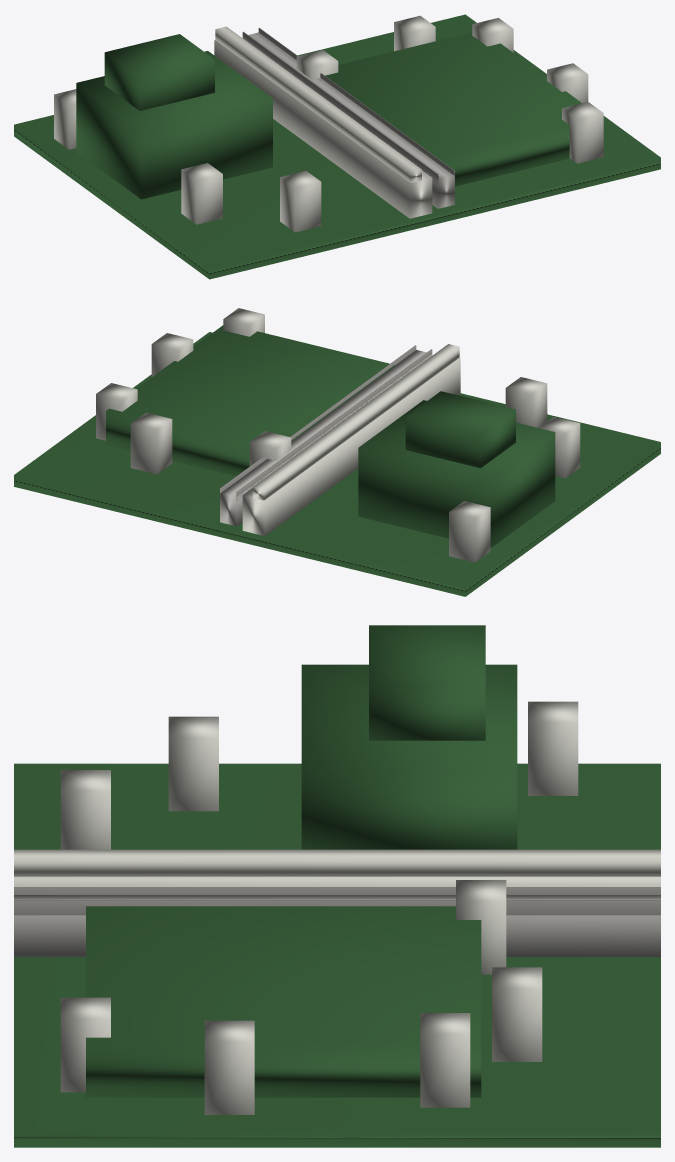
3 renders of one model, top to bottom at view 1: azimuth 30°, elevation 25°; view 2: azimuth 150°, elevation 25°; view 3: azimuth 270°, elevation 25°, orthographic. The views are drawn at different scales.
Parts seen in each view (by area): view 1: rocks_simplified, features_simplified; view 2: rocks_simplified, features_simplified; view 3: rocks_simplified, features_simplified.
Boxes of the visible parts, box(x1,y1,x2,y2) form: rocks_simplified: box(14, 14, 660, 279); features_simplified: box(54, 15, 603, 232); rocks_simplified: box(14, 325, 660, 596); features_simplified: box(96, 308, 580, 562); rocks_simplified: box(14, 625, 660, 1147); features_simplified: box(14, 701, 660, 1114).
Size of the model in its own units: 48 by 11.55 by 36.
Materials: 2 (2 with a texture image).
